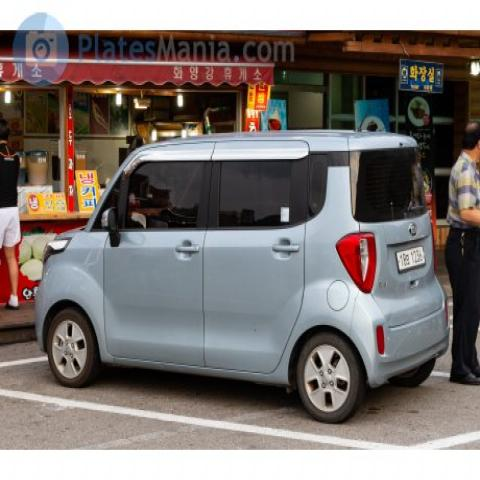LP: (386, 231, 431, 281)
